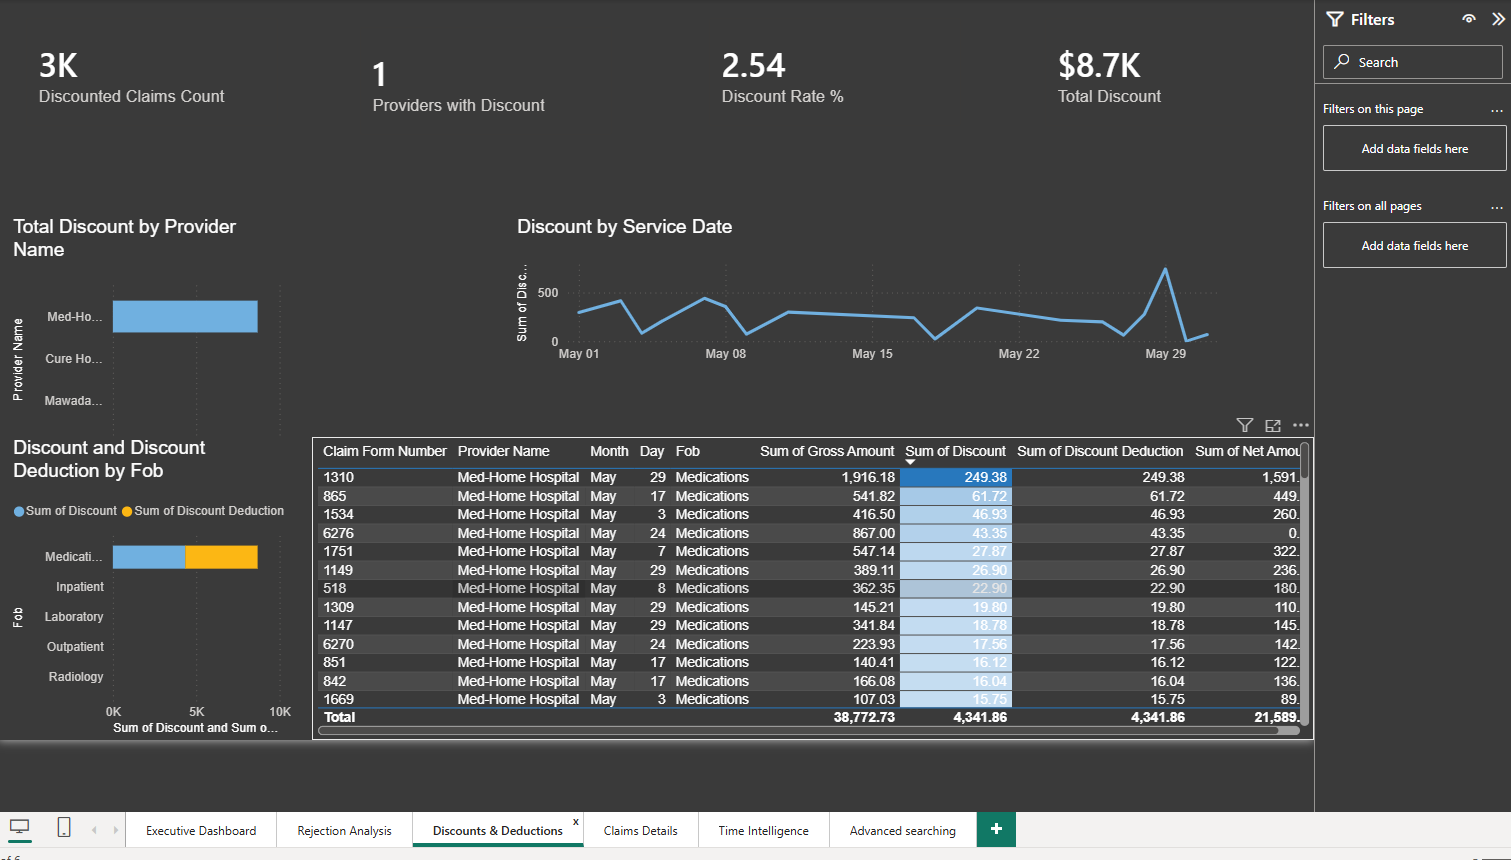

This screenshot's page, from the dashboard's own definition file:
{"tool":"powerbi","page":{"name":"Discounts & Deductions","canvas":[1280,720],"ordinal":2},"visuals":[{"type":"cardVisual","fields":{"Data":["claims.Discounted Claims Count"]},"box":[9.7,0,280.1,140.1],"z":0},{"type":"cardVisual","fields":{"Data":["claims.Total Discount"]},"box":[1000.9,0,280.1,140.1],"z":1000},{"type":"cardVisual","fields":{"Data":["claims.Discount Rate %"]},"box":[674,0,280.1,140.1],"z":2000},{"type":"barChart","fields":{"Category":["claims.Provider Name"],"Y":["claims.Total Discount"]},"box":[9.7,210.1,280.1,250.9],"z":3000},{"type":"barChart","title":" Discount and  Discount Deduction by Fob","fields":{"Category":["claims.Fob"],"Y":["Sum(claims.Discount)","Sum(claims.Discount Deduction)"]},"box":[9.7,425,280.1,294.7],"z":4000},{"type":"lineChart","title":" Discount by Service Date","fields":{"Y":["Sum(claims.Discount)"],"Category":["claims.Service Date"]},"box":[499.9,210.1,701.3,149.8],"z":5000},{"type":"cardVisual","fields":{"Data":["claims.Providers with Discount"]},"box":[334.6,8.8,280.1,140.1],"z":6000},{"type":"tableEx","fields":{"Values":["claims.Claim Form Number","claims.Provider Name","claims.Service Date.Variation.Date Hierarchy.Month","claims.Service Date.Variation.Date Hierarchy.Day","claims.Fob","Sum(claims.Gross Amount)","Sum(claims.Discount)","Sum(claims.Discount Deduction)","Sum(claims.Net Amount)"]},"box":[305.4,425,975,294.6],"z":7000}]}

Visuals, with their boxes on the page's 1280x720 design canvas (x1, y1, x2, y2). These are canvas units, not pixel positions in the 1511x860 screenshot, which may show the page scaled, cropped or inside an application window:
cardVisual - claims.Discounted Claims Count: rect(10, 0, 290, 140)
cardVisual - claims.Total Discount: rect(1001, 0, 1281, 140)
cardVisual - claims.Discount Rate %: rect(674, 0, 954, 140)
barChart - claims.Provider Name x claims.Total Discount: rect(10, 210, 290, 461)
" Discount and  Discount Deduction by Fob" barChart: rect(10, 425, 290, 720)
" Discount by Service Date" lineChart: rect(500, 210, 1201, 360)
cardVisual - claims.Providers with Discount: rect(335, 9, 615, 149)
tableEx - claims.Claim Form Number x claims.Provider Name: rect(305, 425, 1280, 720)
